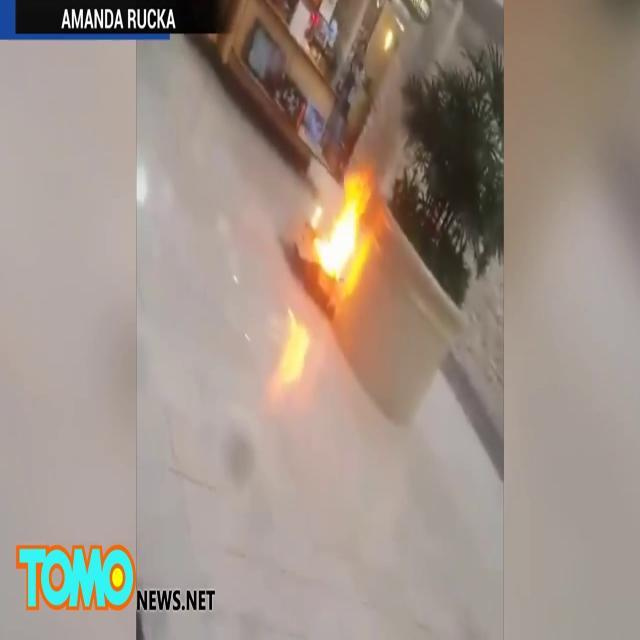Fire: (312, 170, 372, 290), (278, 310, 308, 393)
